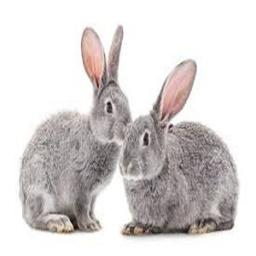rabbit: (20, 26, 132, 232), (119, 59, 239, 234)
